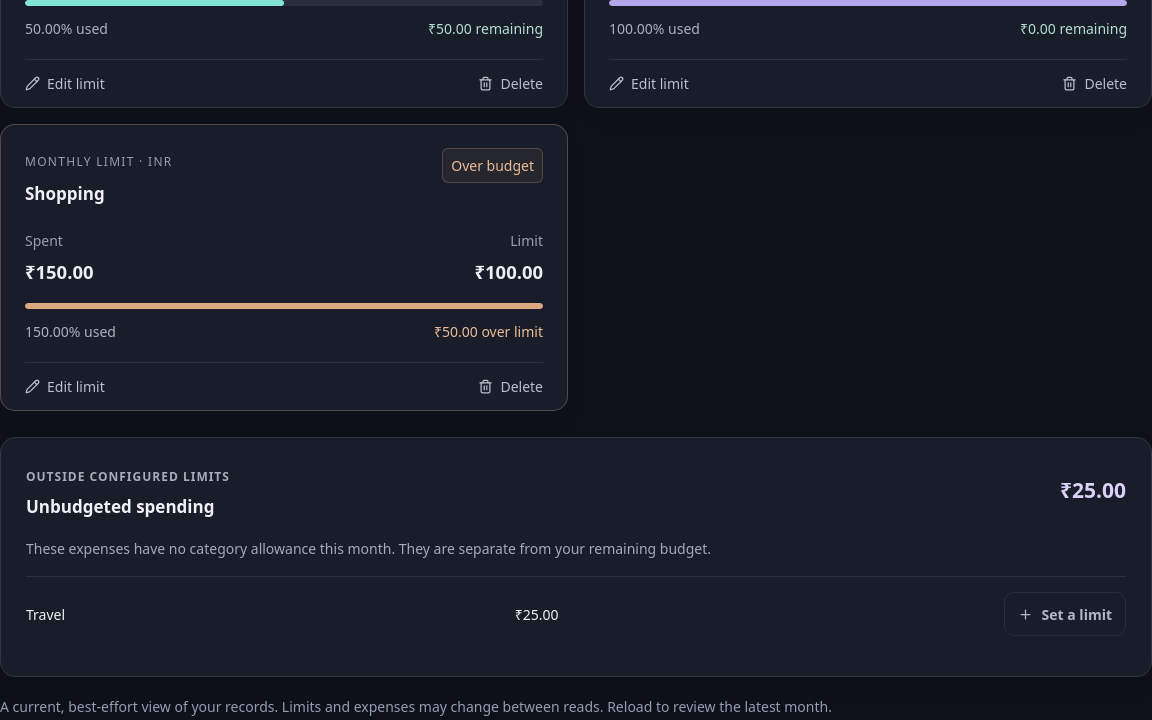
renders real limits, statuses, uncapped utilization and distinct unbudgeted spending
(page scrolled)
expect the text "Over budget" is shown: met, box [442,148,543,183]
expect the text "₹50.00 over limit" is shown: met, box [434,321,543,342]
Click the button "Set a limit": point(1065, 614) [1004,592,1126,636]
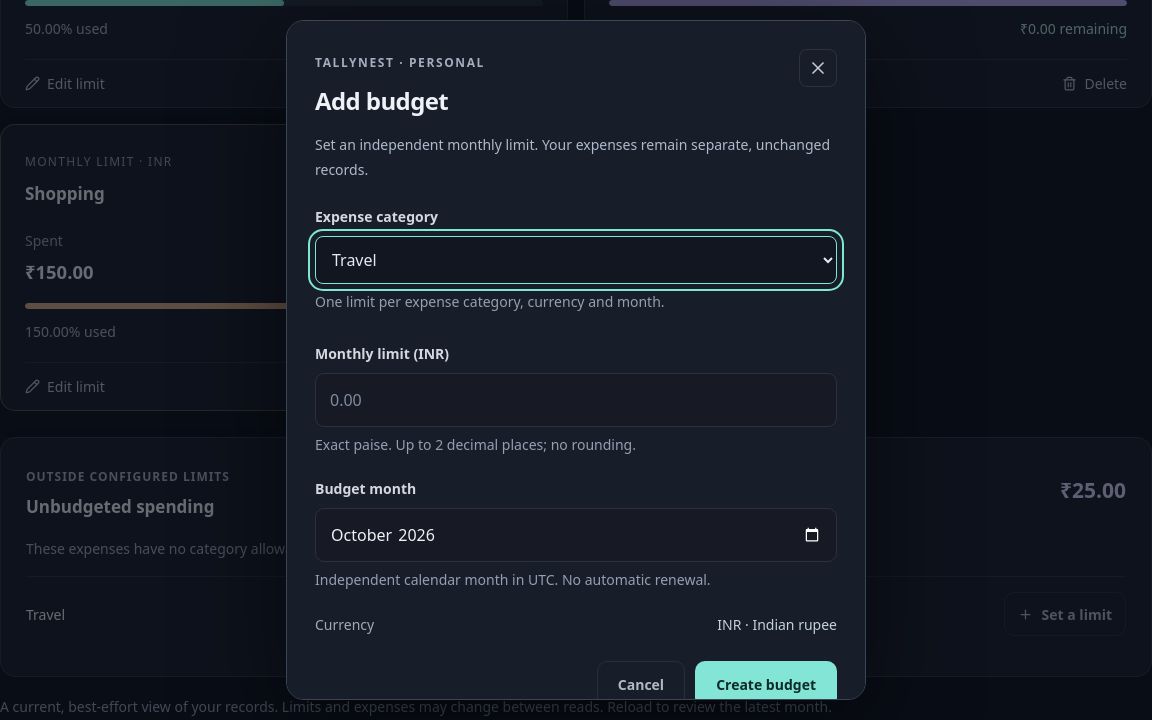
expect the dropdown labelled "Expense category" shows "Travel": met, box [315,236,837,284]
